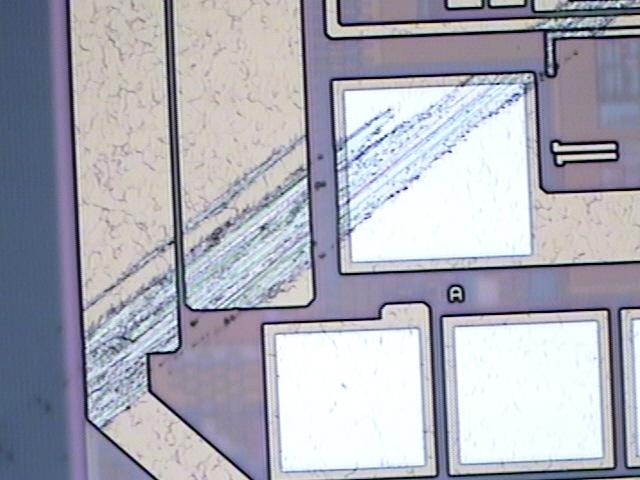SCRATCH: (83, 1, 640, 435)
